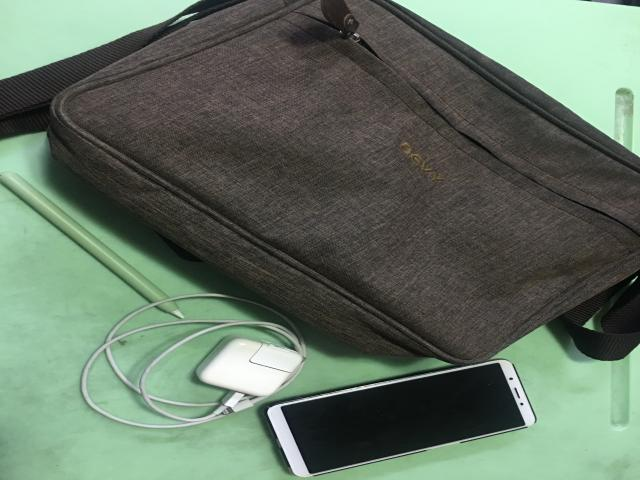Mobile phone: (265, 359, 537, 476)
wire: (80, 293, 307, 428)
